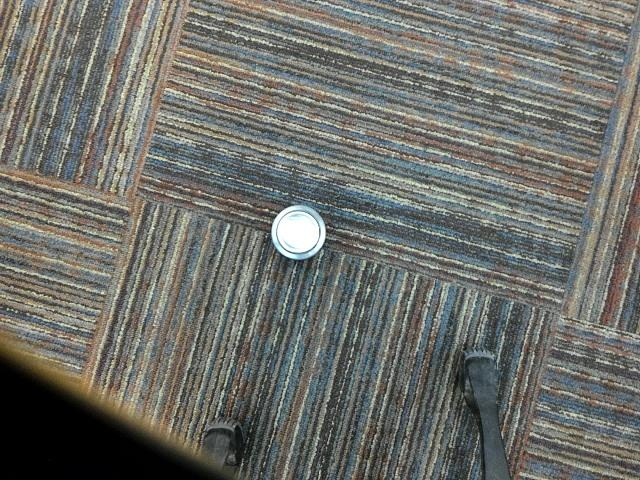can: (268, 202, 333, 270)
